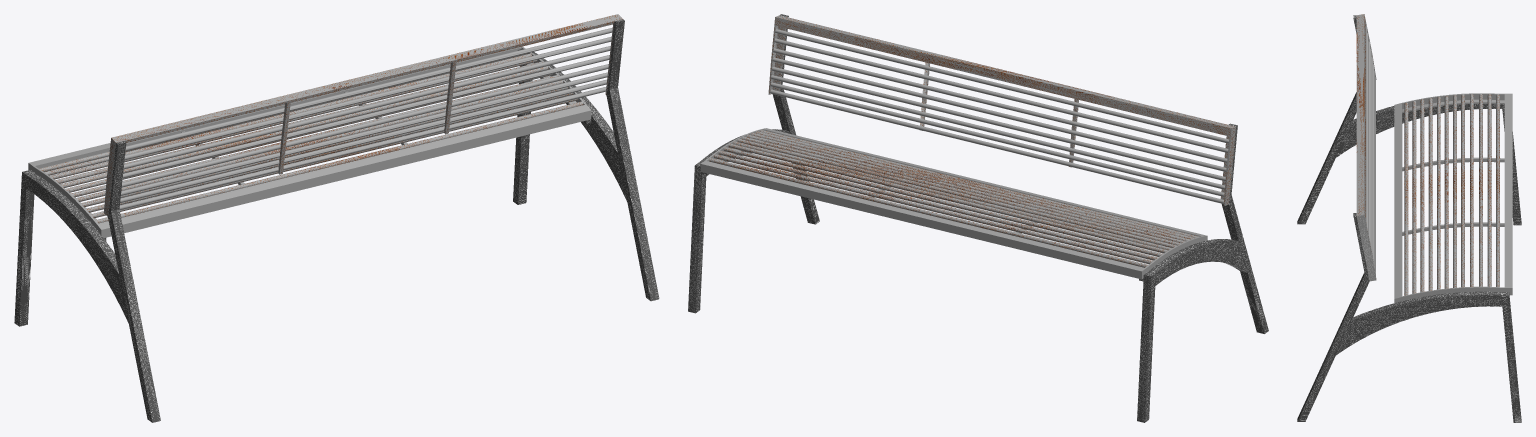
The picture shows the model from 3 angles, left to right: view 1: azimuth 30°, elevation 25°; view 2: azimuth 150°, elevation 25°; view 3: azimuth 270°, elevation 25°; orthographic projection. The views are drawn at different scales.
Visible parts, largest first — view 1: mesh1_mesh1-geometry, mesh2_mesh2-geometry, mesh26_mesh26-geometry, mesh25_mesh25-geometry, mesh6_mesh6-geometry, mesh8_mesh8-geometry, mesh3_mesh3-geometry, mesh4_mesh4-geometry, mesh10_mesh10-geometry, mesh5_mesh5-geometry, mesh7_mesh7-geometry, mesh11_mesh11-geometry; view 2: mesh1_mesh1-geometry, mesh2_mesh2-geometry, mesh26_mesh26-geometry, mesh25_mesh25-geometry, mesh7_mesh7-geometry, mesh6_mesh6-geometry, mesh8_mesh8-geometry, mesh11_mesh11-geometry, mesh5_mesh5-geometry, mesh3_mesh3-geometry, mesh4_mesh4-geometry, mesh10_mesh10-geometry; view 3: mesh2_mesh2-geometry, mesh25_mesh25-geometry, mesh1_mesh1-geometry, mesh26_mesh26-geometry, mesh4_mesh4-geometry, mesh3_mesh3-geometry, mesh10_mesh10-geometry, mesh6_mesh6-geometry, mesh5_mesh5-geometry, mesh8_mesh8-geometry, mesh7_mesh7-geometry, mesh11_mesh11-geometry.
Boxes of the visible parts, x1,y1,x2,y2 form: mesh1_mesh1-geometry: (103,14,622,216); mesh2_mesh2-geometry: (28,46,591,237); mesh26_mesh26-geometry: (14,141,160,422); mesh25_mesh25-geometry: (513,19,659,301); mesh6_mesh6-geometry: (44,53,531,175); mesh8_mesh8-geometry: (50,60,537,179); mesh3_mesh3-geometry: (81,87,568,207); mesh4_mesh4-geometry: (86,92,573,212); mesh10_mesh10-geometry: (91,98,578,218); mesh5_mesh5-geometry: (66,73,553,192); mesh7_mesh7-geometry: (55,61,542,183); mesh11_mesh11-geometry: (39,53,526,171); mesh1_mesh1-geometry: (768,15,1235,205); mesh2_mesh2-geometry: (700,128,1207,279); mesh26_mesh26-geometry: (1137,123,1268,422); mesh25_mesh25-geometry: (688,14,819,313); mesh7_mesh7-geometry: (723,147,1162,256); mesh6_mesh6-geometry: (714,154,1152,264); mesh8_mesh8-geometry: (718,150,1157,260); mesh11_mesh11-geometry: (709,158,1148,267); mesh5_mesh5-geometry: (733,141,1172,250); mesh3_mesh3-geometry: (746,134,1185,243); mesh4_mesh4-geometry: (751,132,1190,241); mesh10_mesh10-geometry: (756,131,1194,239); mesh2_mesh2-geometry: (1394,93,1512,302); mesh25_mesh25-geometry: (1297,213,1521,422); mesh1_mesh1-geometry: (1356,14,1376,281); mesh26_mesh26-geometry: (1297,15,1521,225); mesh4_mesh4-geometry: (1420,99,1424,292); mesh3_mesh3-geometry: (1428,98,1432,290); mesh10_mesh10-geometry: (1412,100,1416,293); mesh6_mesh6-geometry: (1487,94,1491,286); mesh5_mesh5-geometry: (1453,95,1456,287); mesh8_mesh8-geometry: (1479,94,1482,286); mesh7_mesh7-geometry: (1470,94,1473,286); mesh11_mesh11-geometry: (1496,94,1499,287).
Bounding box in the file's own units: 0.8289 × 0.4002 × 0.3907.
